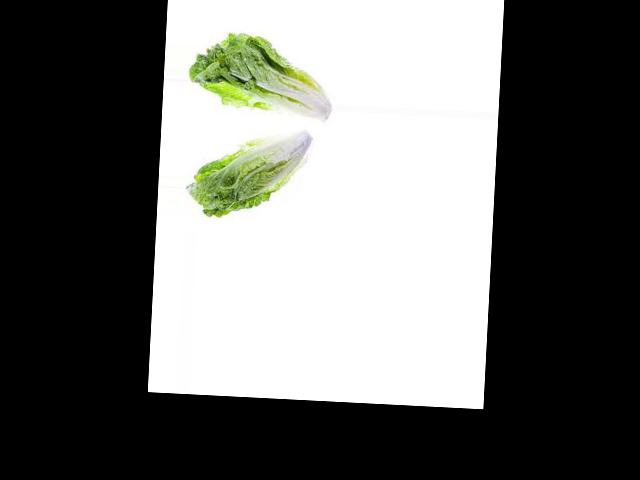lettuce: (205, 10, 304, 122)
